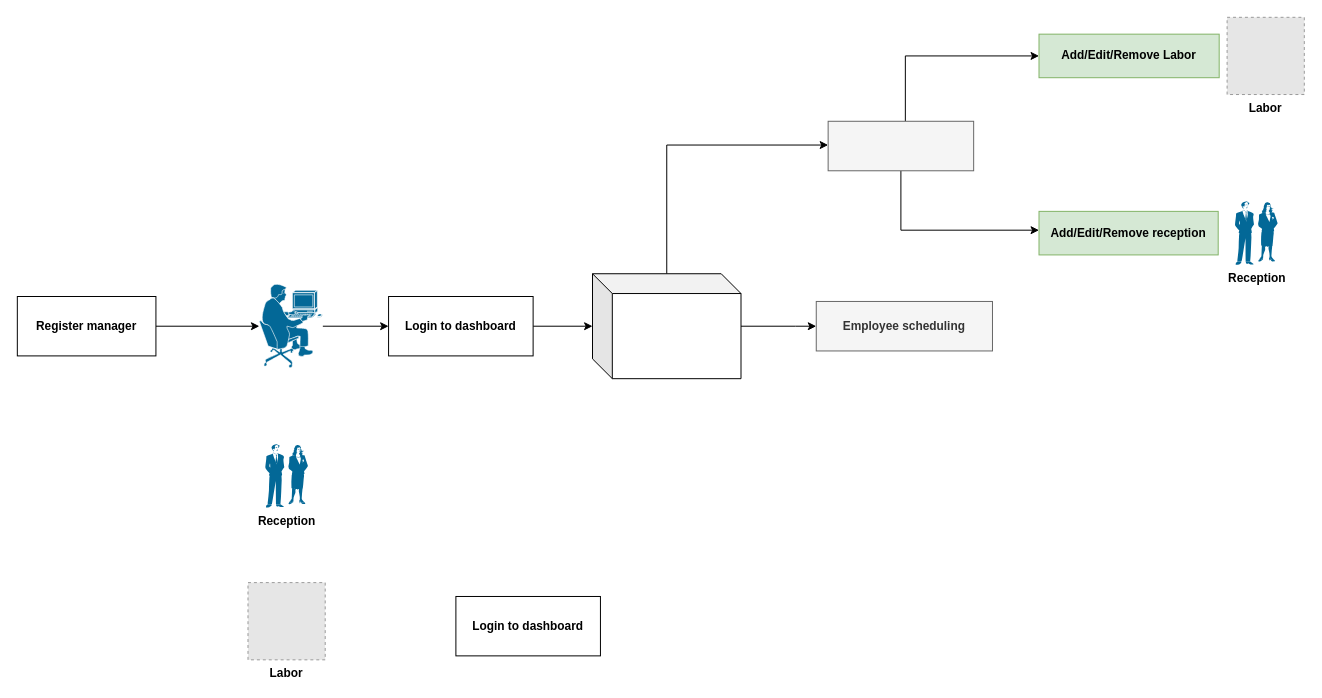
Some shapes in this 1322 by 698 pixel diagram are drawn without their labels. Grey dashed boxes stand in for pictures. The centre of each missing label's shape, as x and y in pixels:
"Dashboard" belongs at (666,326).
"Manager" belongs at (290,325).
"Manager staffs" belongs at (900,145).
